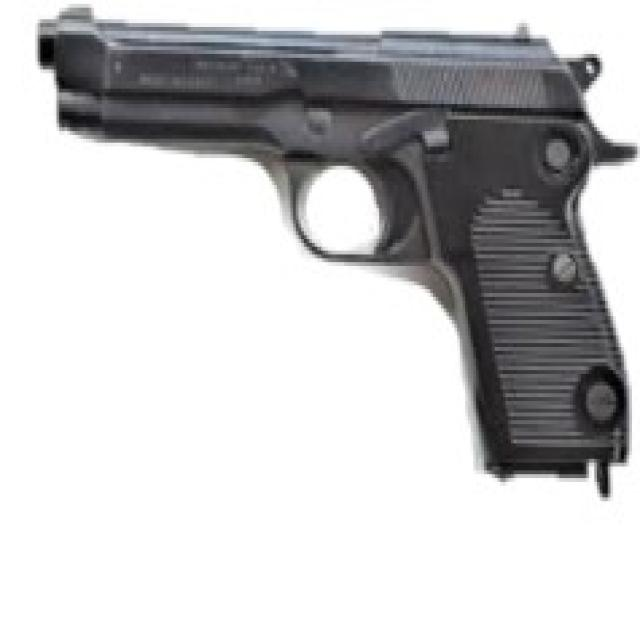pistol: (29, 1, 640, 510)
